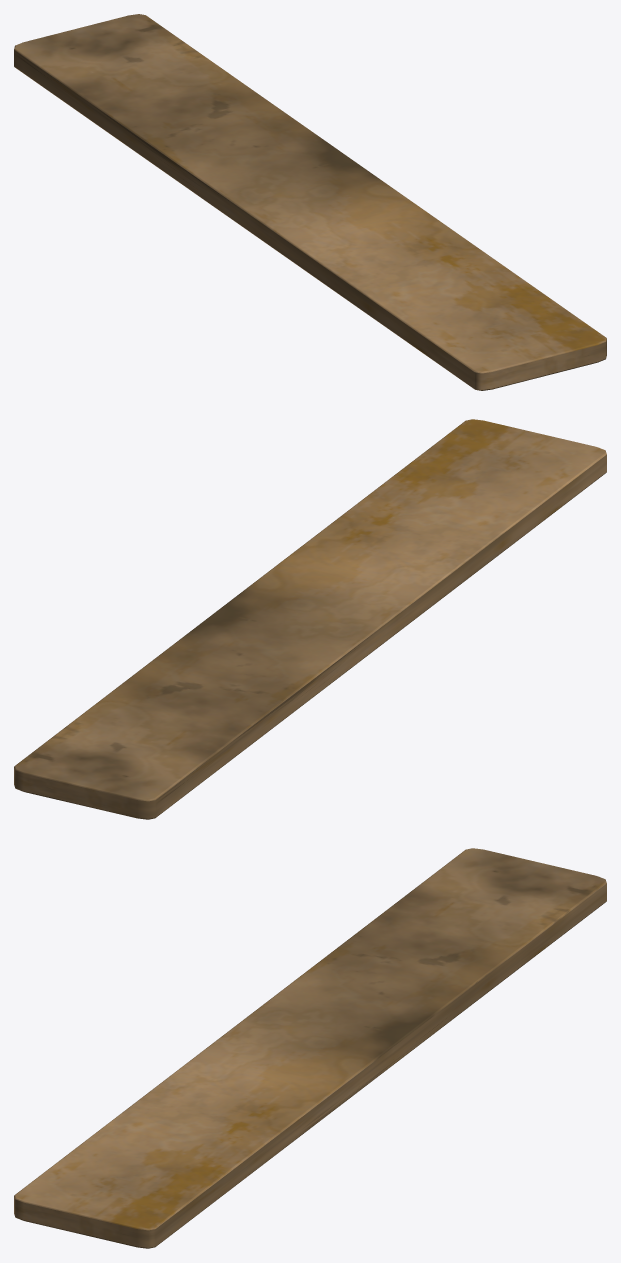
Rendered from planche1.fbx.
3 views of the same model, one above another, from view 1: azimuth 30°, elevation 25°; view 2: azimuth 150°, elevation 25°; view 3: azimuth 330°, elevation 25° (orthographic). The views are drawn at different scales.
Visible parts, largest first — view 1: polySurface38; view 2: polySurface38; view 3: polySurface38.
Part boxes in pixels (bbox=[...]): polySurface38: bbox=[14, 14, 606, 390]; polySurface38: bbox=[14, 419, 606, 819]; polySurface38: bbox=[14, 848, 606, 1248].
Size of the model in its own units: 0.1597 by 0.0198 by 0.8473.
